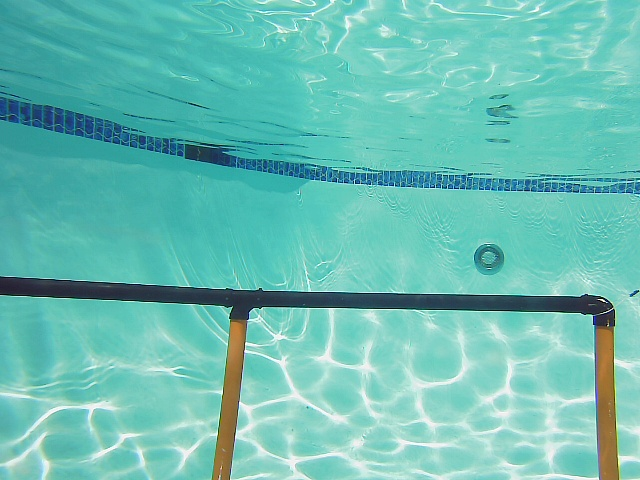Gate: (209, 314, 252, 480), (588, 315, 626, 480)
